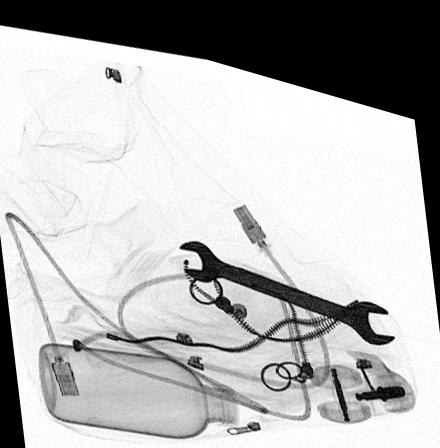Wrench: (175, 228, 395, 323)
